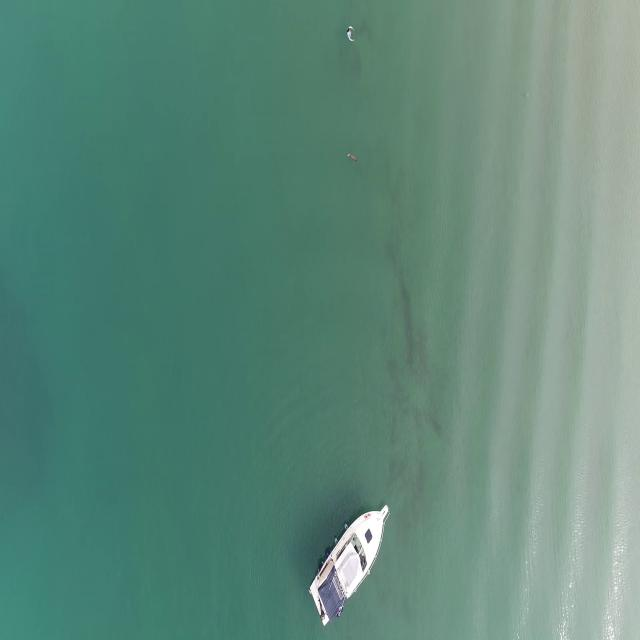boat: (310, 502, 390, 625)
person: (347, 24, 357, 46)
wood: (346, 150, 358, 164)
